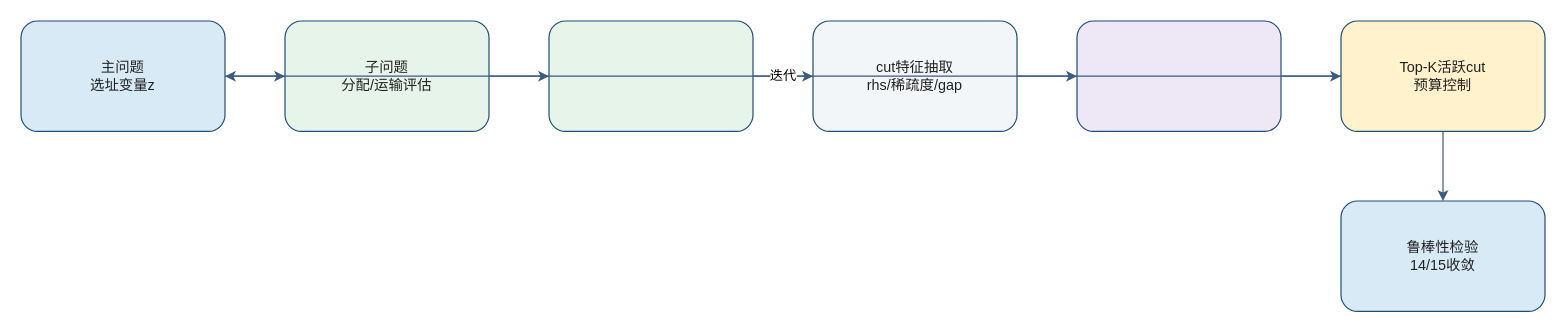
The diagram is 1566 pixels wide and 332 high, and some of its shapes have lost their labels. Here are the shapes that lost their labels. From the top down, the centre of each, then its label:
At [650,75]: "生成Benders cut 可行/最优cut".
At [1178,75]: "AI评分排序 cut ranking".
